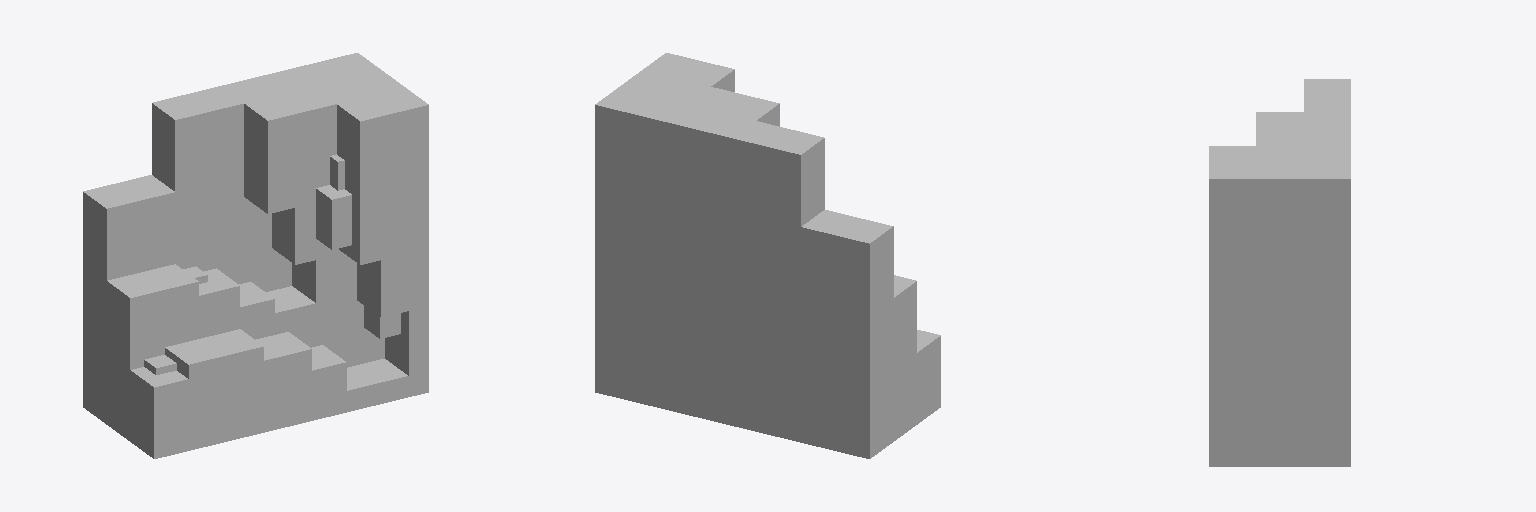
Rendered from corner inner.obj.
3 views of the same model, side by side, from view 1: azimuth 30°, elevation 25°; view 2: azimuth 150°, elevation 25°; view 3: azimuth 270°, elevation 25° (orthographic).
Size of the model in its own units: 40 by 40 by 18.